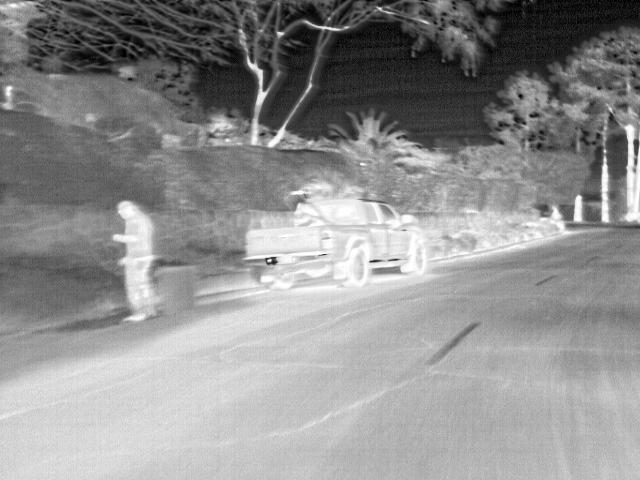car: (244, 198, 429, 290)
person: (116, 196, 159, 322)
